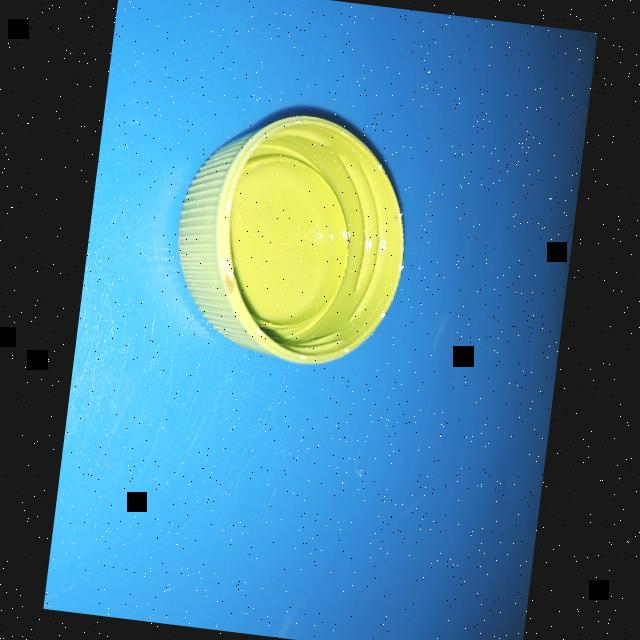plastic_bottle_cap: (164, 99, 420, 375)
